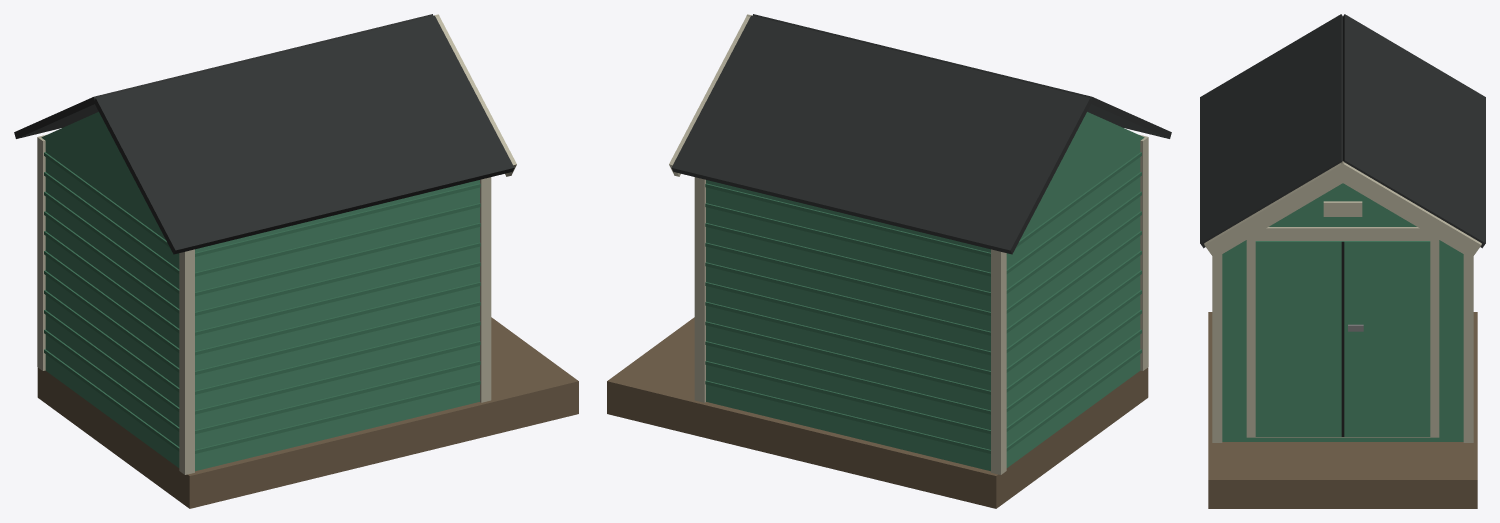
Rendered from SM_Prop_coast_beachhut_3.glb.
3 renders of one model, left to right at view 1: azimuth 30°, elevation 25°; view 2: azimuth 150°, elevation 25°; view 3: azimuth 270°, elevation 25°, orthographic. The views are drawn at different scales.
Parts seen in each view (by area): view 1: SM_Prop_coast_beachhut_3; view 2: SM_Prop_coast_beachhut_3; view 3: SM_Prop_coast_beachhut_3.
Boxes of the visible parts, x1,y1,x2,y2 form: SM_Prop_coast_beachhut_3: (14,14,578,508); SM_Prop_coast_beachhut_3: (607,14,1171,508); SM_Prop_coast_beachhut_3: (1200,14,1485,508).
Bounding box in the file's own units: 3.25 × 2.74 × 2.23.
